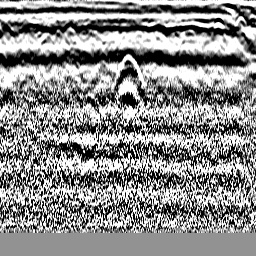cavity: (111, 50, 143, 91)
